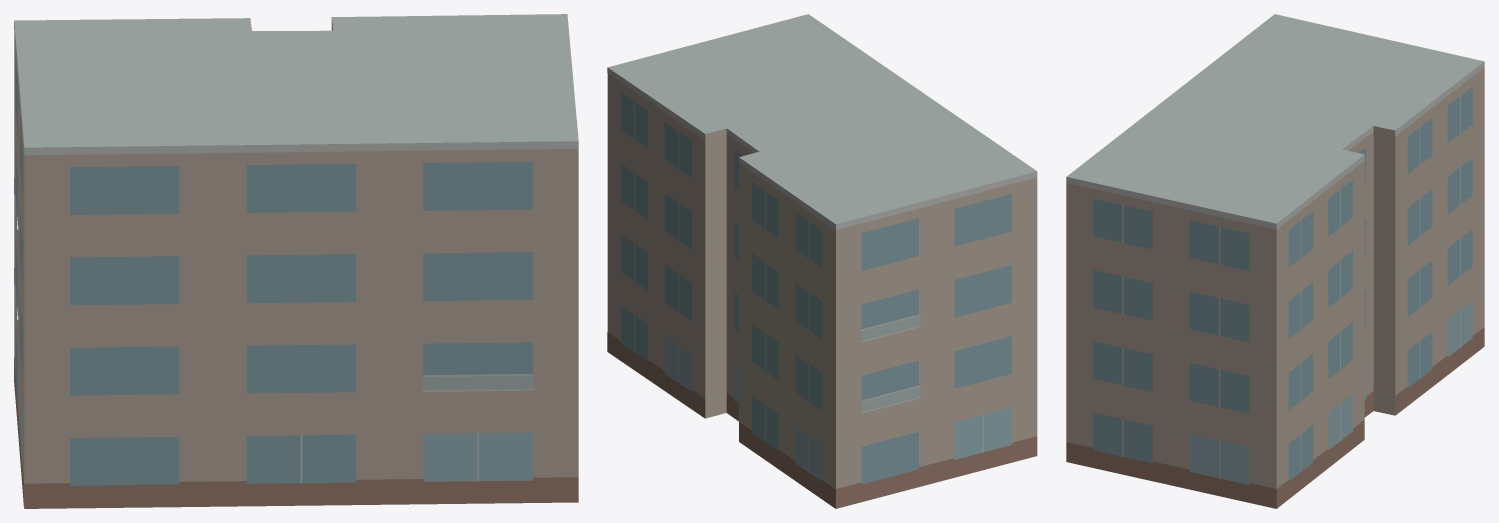
The model's file is survey-upis-32657758.glb.
The picture shows the model from 3 angles, left to right: view 1: azimuth 30°, elevation 25°; view 2: azimuth 150°, elevation 25°; view 3: azimuth 270°, elevation 25°; orthographic projection. The views are drawn at different scales.
Visible parts, largest first — view 1: survey-upis-32657758.tmp; view 2: survey-upis-32657758.tmp; view 3: survey-upis-32657758.tmp.
Boxes of the visible parts, left/top/right/bottom form: survey-upis-32657758.tmp: left=14, top=14, right=578, bottom=508; survey-upis-32657758.tmp: left=607, top=14, right=1037, bottom=508; survey-upis-32657758.tmp: left=1066, top=14, right=1484, bottom=508.
Size of the model in its own units: 18.31 by 11.6 by 15.43.
